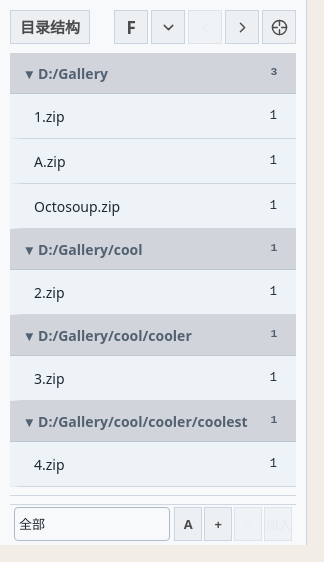
it: SidebarPanel music interactions › 侧栏标签支持完整路径与末段名切换
Expected: the button "▾ D:/Gallery/cool/cooler 1" is shown, [10, 315, 296, 355]
Click the button "F" at (131, 27), box [114, 10, 148, 44]
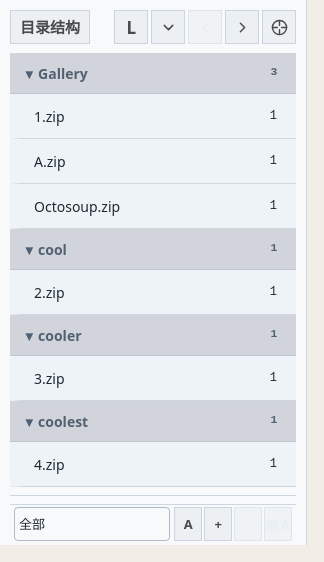
Expected: the button "▾ cooler 1" is shown, [10, 315, 296, 355]
Now the button "D:/Gallery/cool/cooler" is gone
Click the button "L" at (131, 27), box [114, 10, 148, 44]
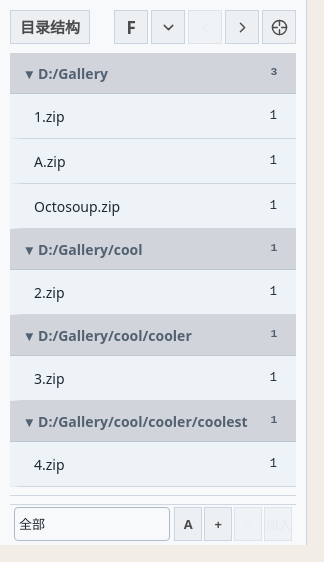
Now the button "▾ D:/Gallery/cool/cooler 1" is shown, box [10, 315, 296, 355]
